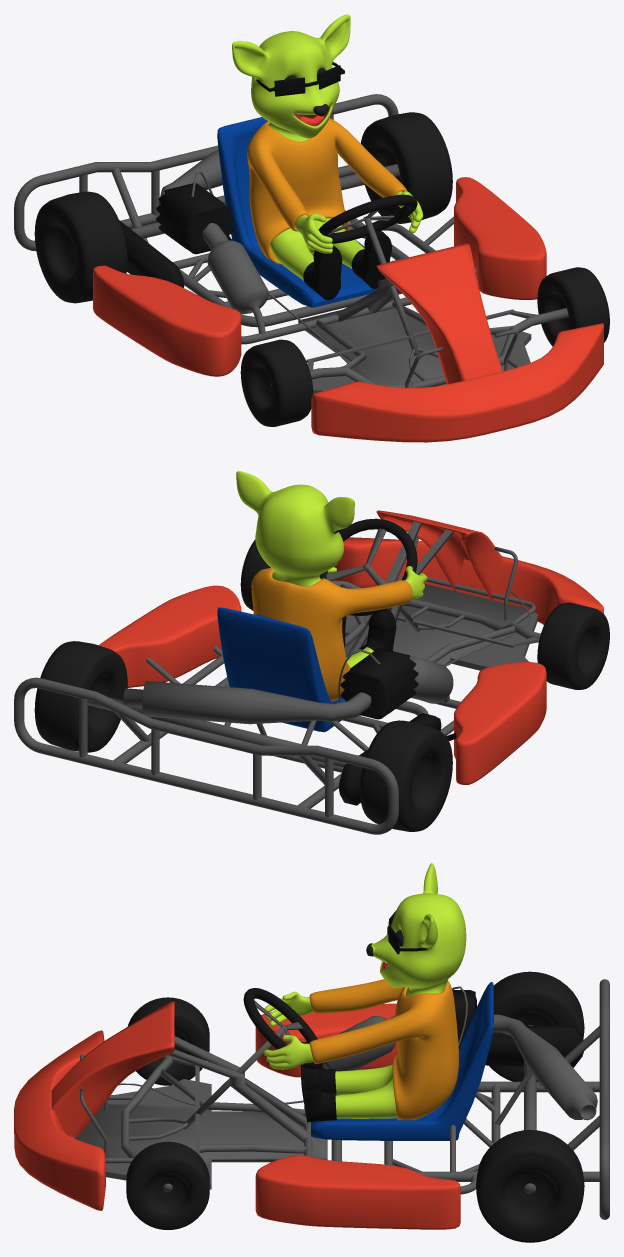
Rendered from the_Cougar_and_the_go_kart.fbx.
3 renders of one model, top to bottom at view 1: azimuth 30°, elevation 25°; view 2: azimuth 150°, elevation 25°; view 3: azimuth 270°, elevation 25°, orthographic.
Parts seen in each view (by area): view 1: Cube.003; view 2: Cube.003; view 3: Cube.003.
Part boxes in pixels (bbox=[...]): Cube.003: bbox=[14, 14, 609, 442]; Cube.003: bbox=[14, 471, 609, 834]; Cube.003: bbox=[14, 863, 609, 1242].
Bounding box in the file's own units: 1643 × 1087 × 2217.
